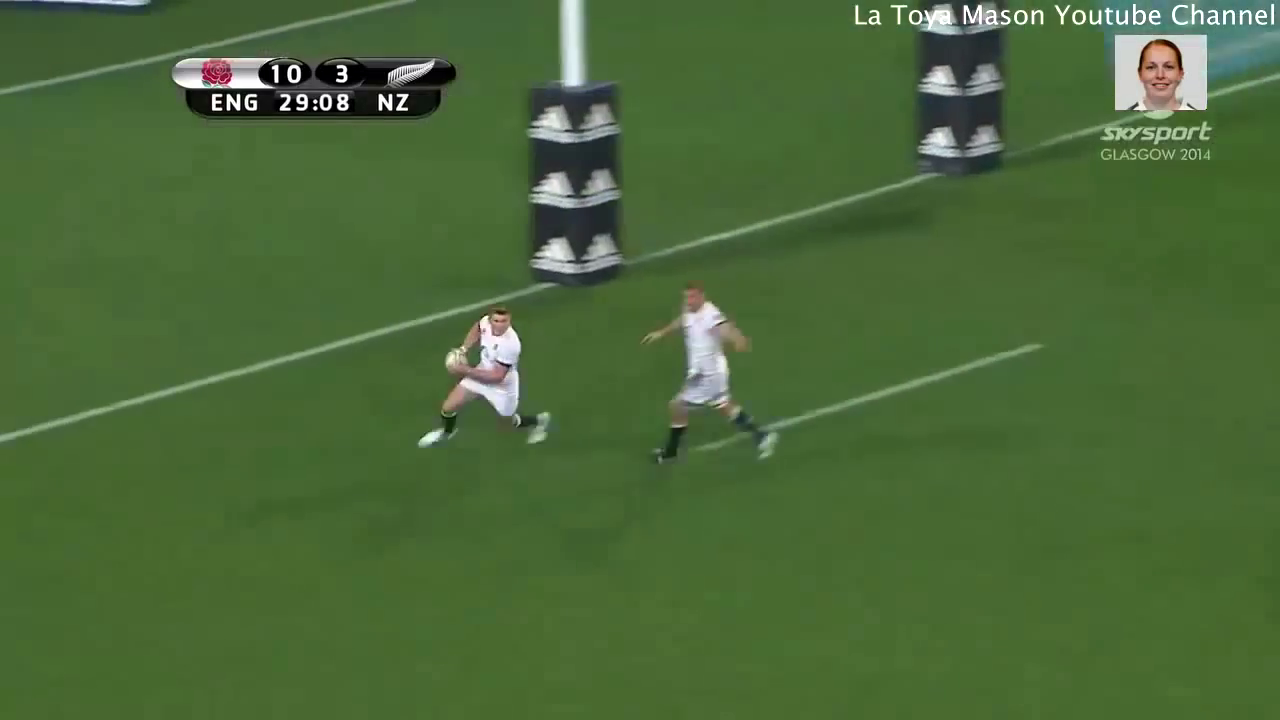ball: (437, 340, 474, 390)
player: (625, 271, 786, 478), (407, 295, 561, 462)
post: (515, 1, 1018, 304)
